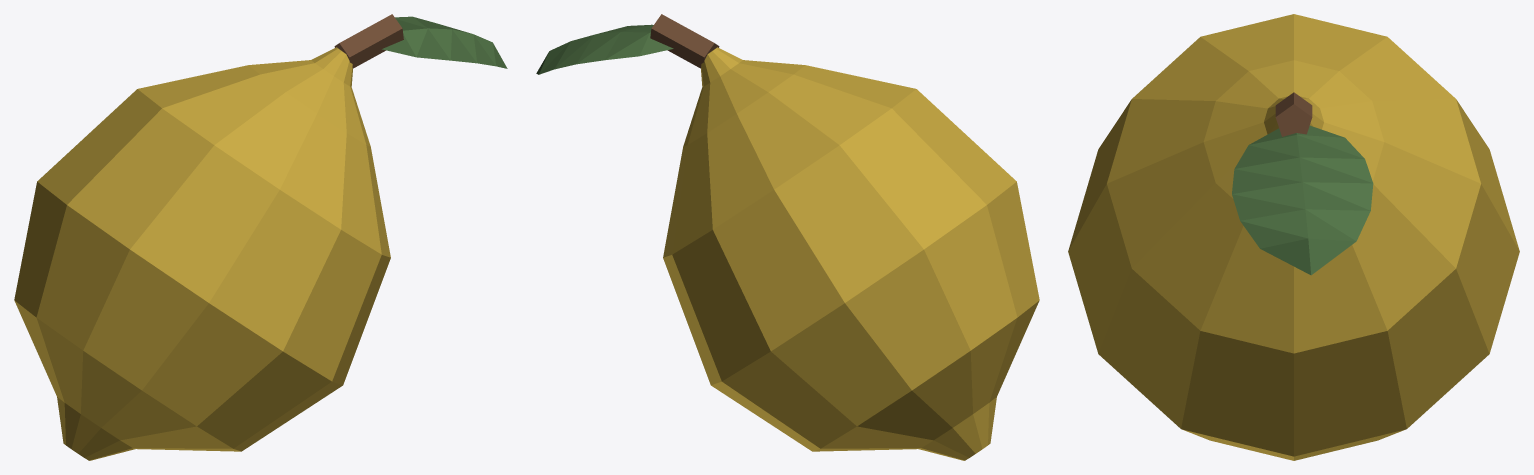
File: lemon.glb
The picture shows the model from 3 angles, left to right: view 1: azimuth 30°, elevation 25°; view 2: azimuth 150°, elevation 25°; view 3: azimuth 270°, elevation 25°; orthographic projection. The views are drawn at different scales.
Visible parts, largest first — view 1: item; view 2: item; view 3: item.
Boxes of the visible parts, x1,y1,x2,y2 form: item: [14, 14, 507, 460]; item: [536, 14, 1039, 460]; item: [1068, 14, 1519, 460].
Bounding box in the file's own units: 0.3094 × 0.2357 × 0.21.
